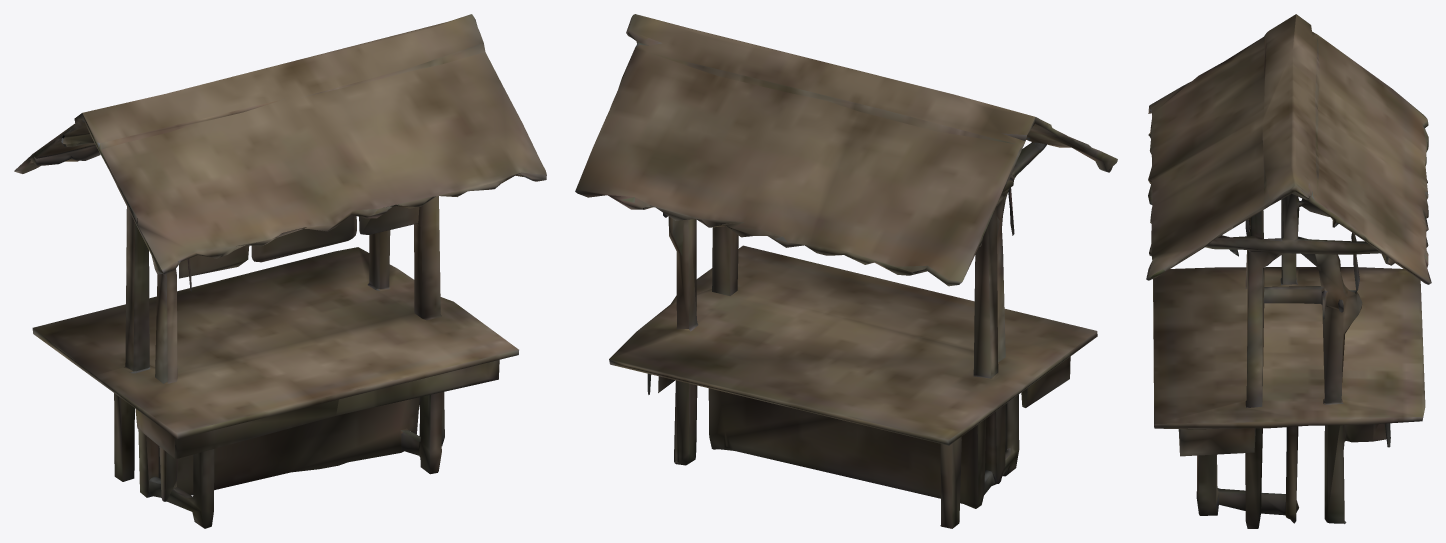
The model's file is plain-wood-market-stall-v002.glb.
3 views of the same model, side by side, from view 1: azimuth 30°, elevation 25°; view 2: azimuth 150°, elevation 25°; view 3: azimuth 270°, elevation 25° (orthographic). The views are drawn at different scales.
Visible parts, largest first — view 1: plain-wood-market-stall; view 2: plain-wood-market-stall; view 3: plain-wood-market-stall.
Part boxes in pixels (x1,y1,x2,y2): plain-wood-market-stall: [14, 14, 546, 528]; plain-wood-market-stall: [575, 14, 1117, 528]; plain-wood-market-stall: [1146, 14, 1431, 528].
Bounding box in the file's own units: 2.67 × 2.62 × 1.82.
Materials: 1 (1 with a texture image).
